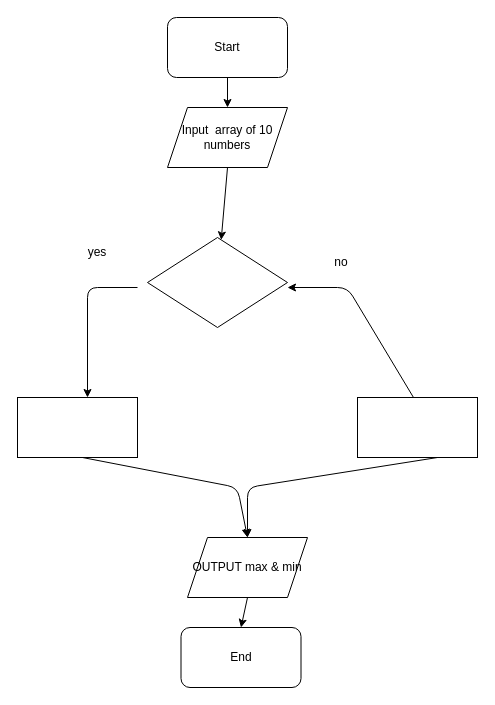
The diagram is 495 pixels wide and 705 high, and some of its shapes have lost their labels. The centre of each missing label's shape, as x and y in pixels:
"max = num" belongs at [77,427].
"min = num" belongs at [417,427].
